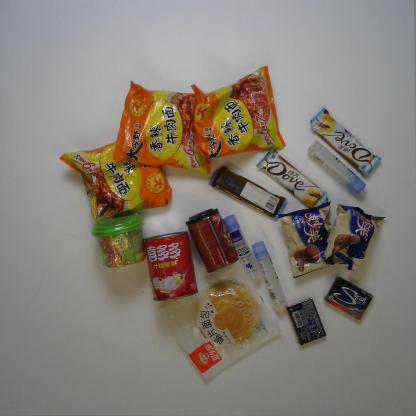Canned Food: (143, 230, 199, 301), (185, 206, 239, 274)
Chocolate: (309, 107, 383, 178), (255, 147, 329, 209), (207, 166, 287, 222)
Dessert: (156, 259, 285, 382), (277, 200, 338, 278), (324, 203, 386, 272)
Gum: (324, 275, 374, 321), (286, 297, 327, 346)
Instant Drink: (91, 212, 147, 269)
Instant Noodles: (191, 65, 286, 175), (59, 135, 172, 220), (112, 80, 212, 174)
Stationery: (308, 140, 367, 196), (222, 213, 263, 281), (250, 240, 288, 310)
